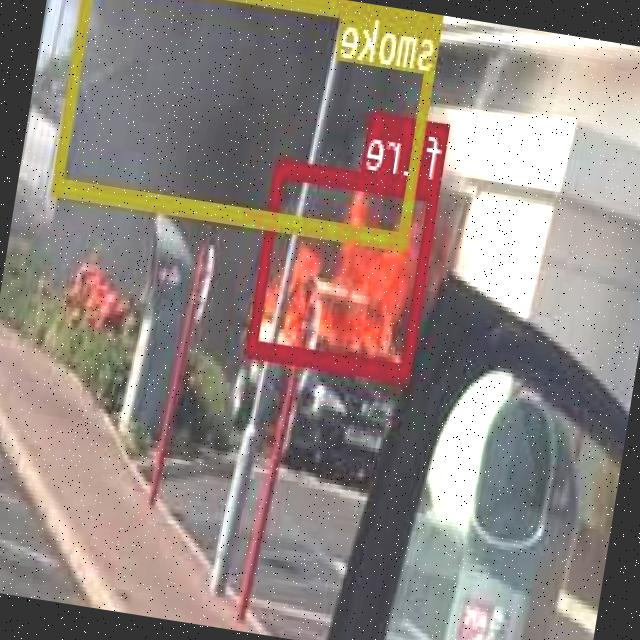fire: (248, 158, 443, 379)
smoke: (53, 0, 446, 249)
